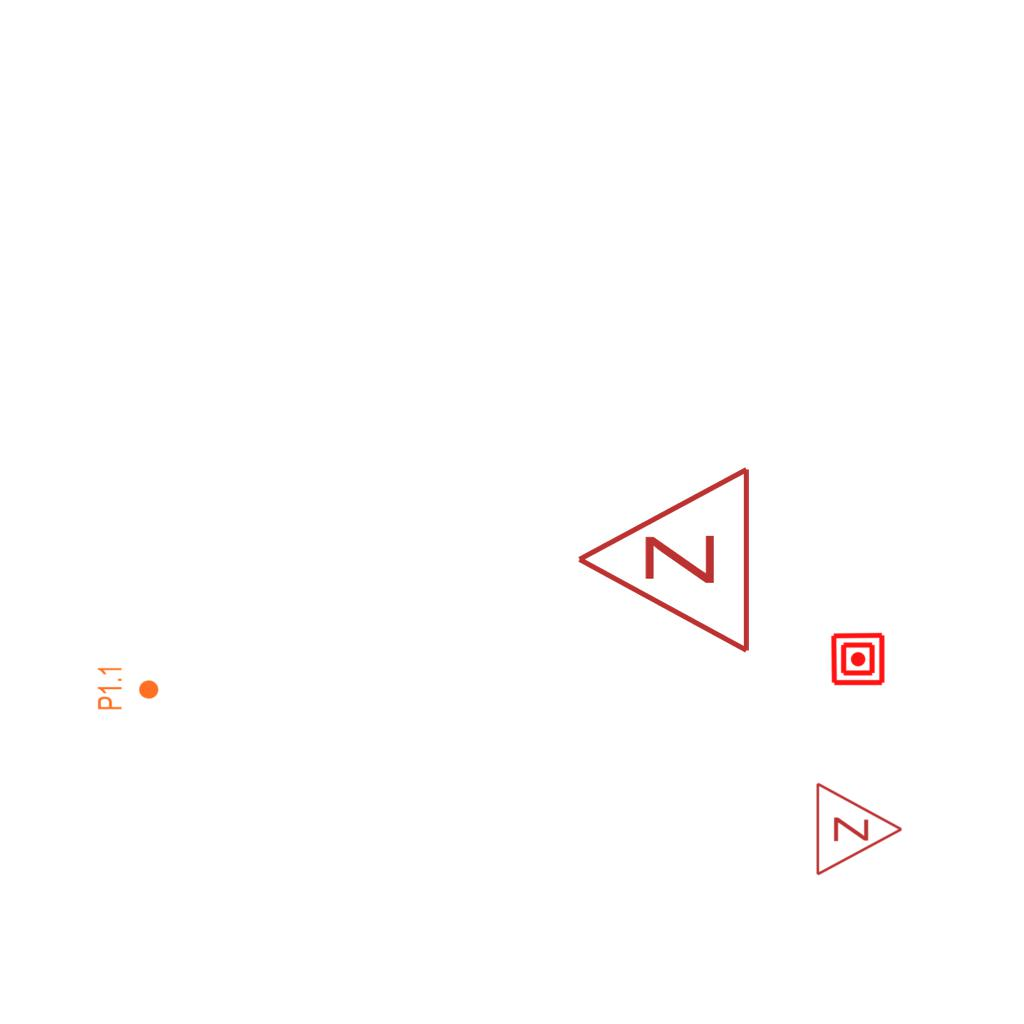Downlight_LED_Einbauleuchten_Flur: (96, 665, 160, 711)
NAM-Nichtautomatischer_Melder: (830, 631, 886, 687)
Zimmersignalleuchte: (564, 464, 764, 660), (809, 779, 909, 877)
